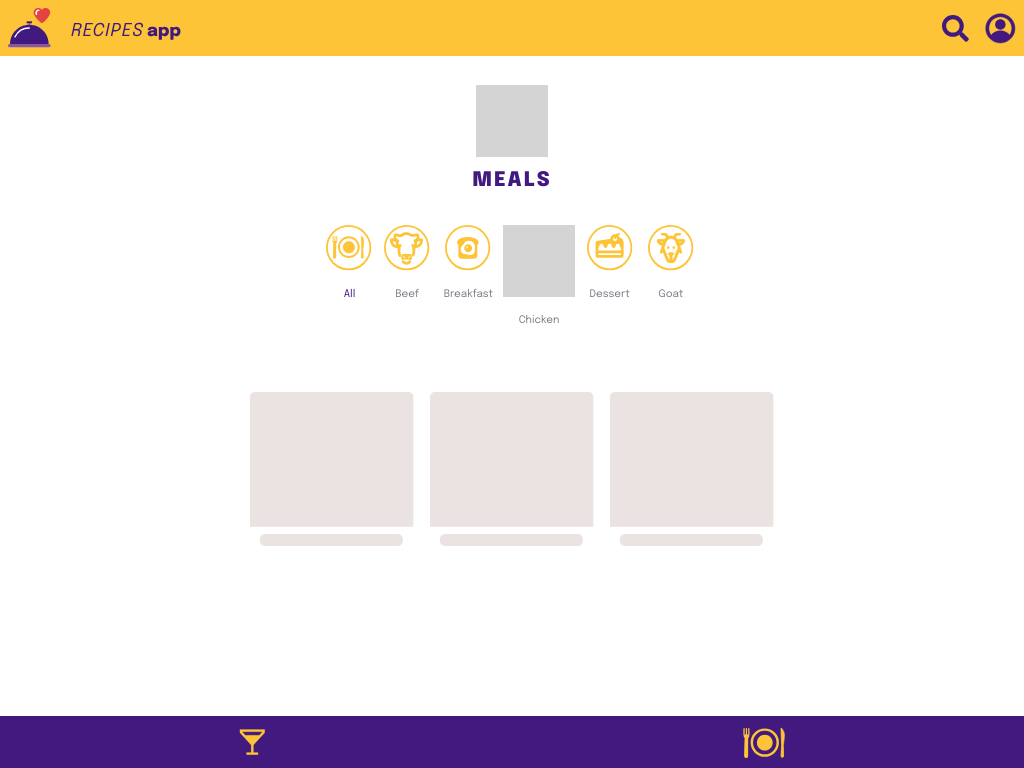
Test: Testes do componente SearchBar › Verifica se SearchBar e renderizado
The image size is (1024, 768).
Click the button with test id "search-top-btn": (956, 28) [942,14,969,42]
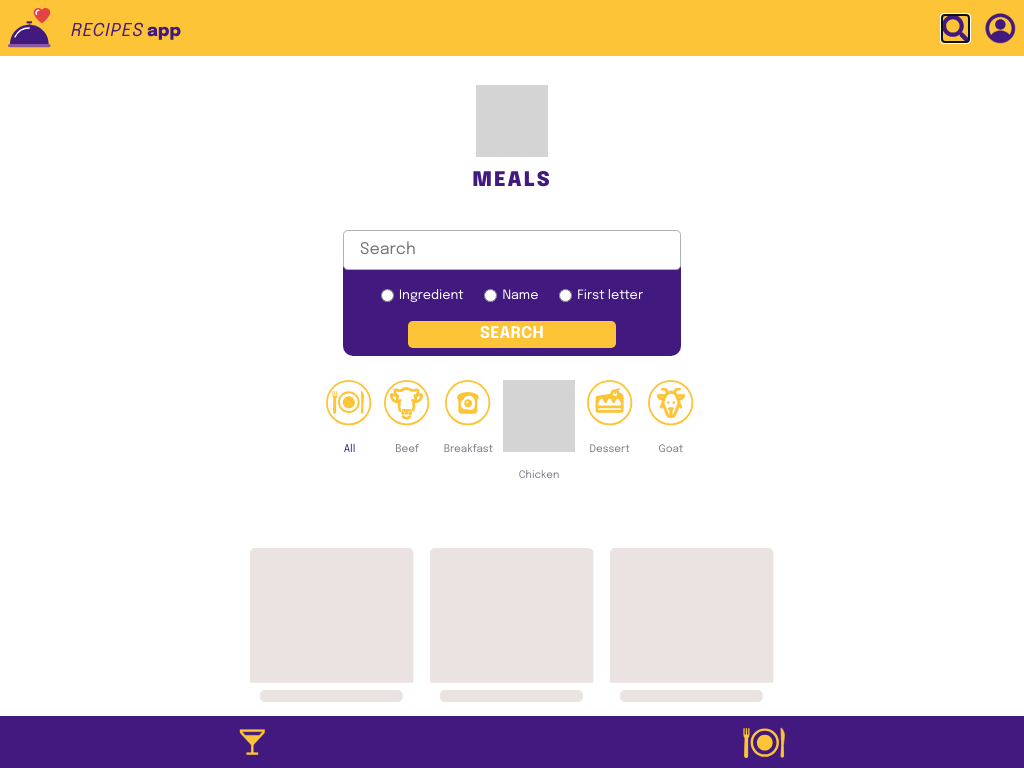
expect the field with test id "search-input" is shown: met, box [343,230,681,270]
expect the radio button with test id "ingredient-search-radio" is shown: met, box [381,289,394,302]
expect the radio button with test id "name-search-radio" is shown: met, box [484,289,497,302]
